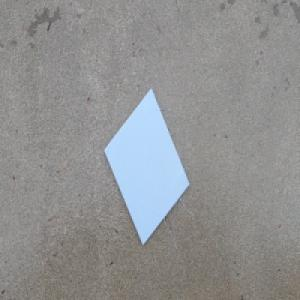PaintChip: (102, 87, 189, 247)
